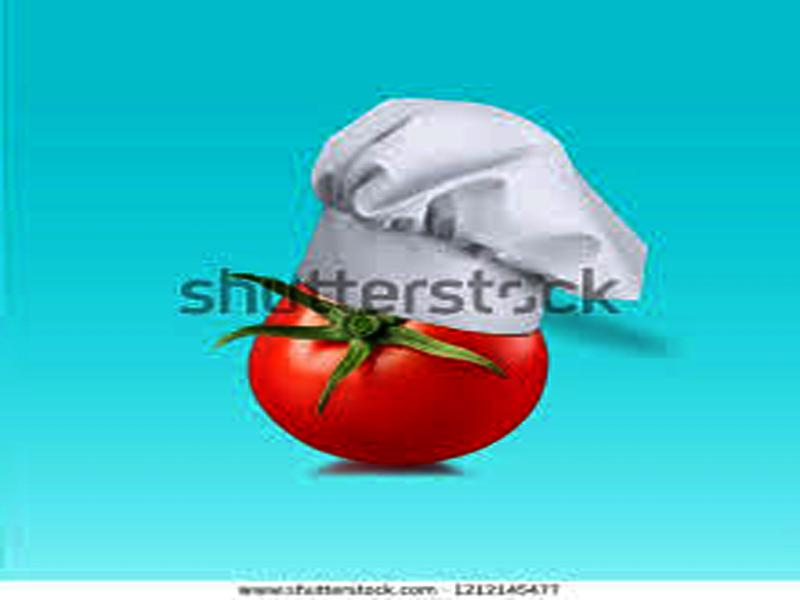Tomato: (253, 282, 547, 461)
